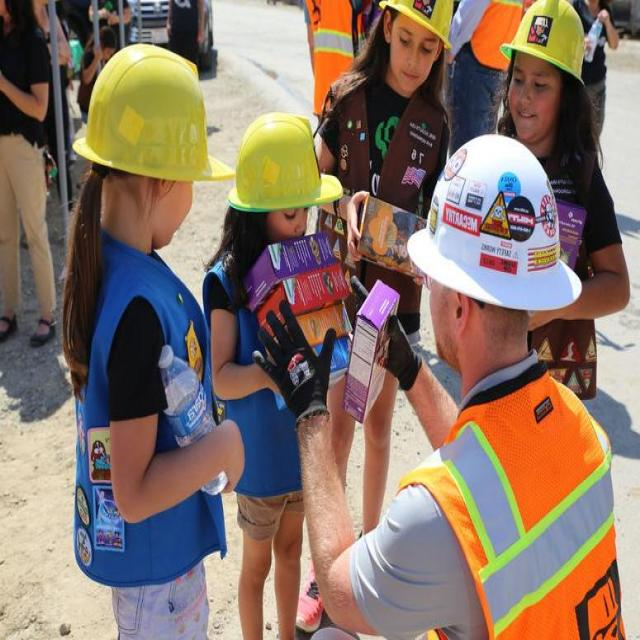Reflective-Jacket: (406, 374, 622, 638)
Safety-Helmet: (404, 131, 586, 310), (71, 41, 226, 187), (224, 106, 339, 215), (502, 2, 587, 82), (377, 1, 458, 48)
